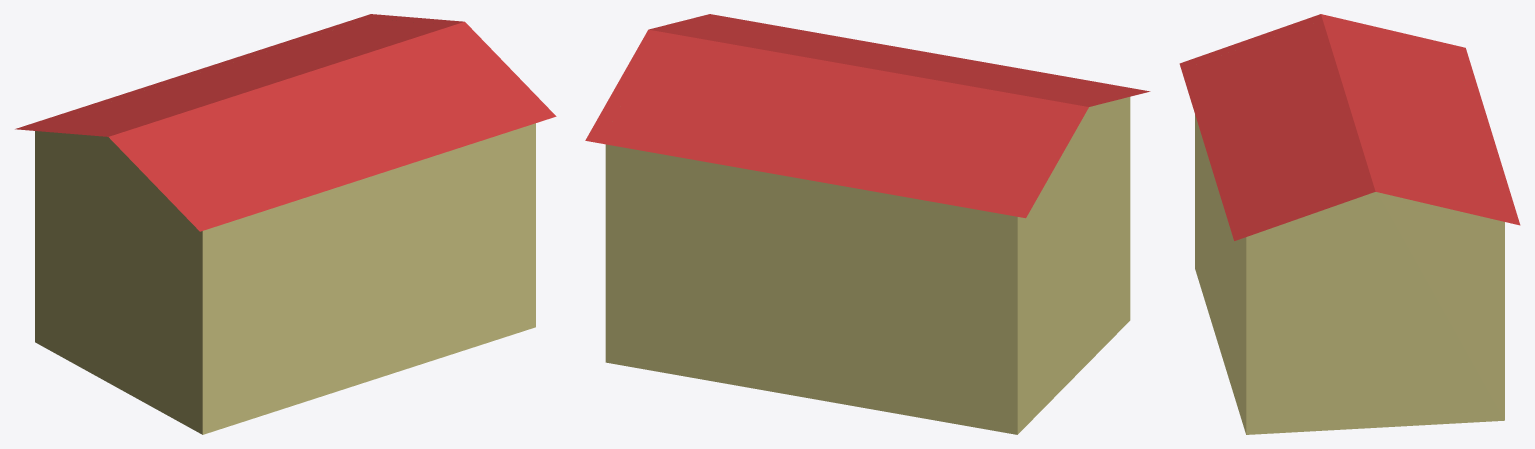
3 views of the same model, side by side, from view 1: azimuth 30°, elevation 25°; view 2: azimuth 150°, elevation 25°; view 3: azimuth 270°, elevation 25° (orthographic). The views are drawn at different scales.
Bounding box in the file's own units: 16.48 × 12.27 × 9.61.
